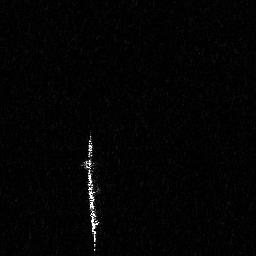ship: (79, 127, 103, 255)
